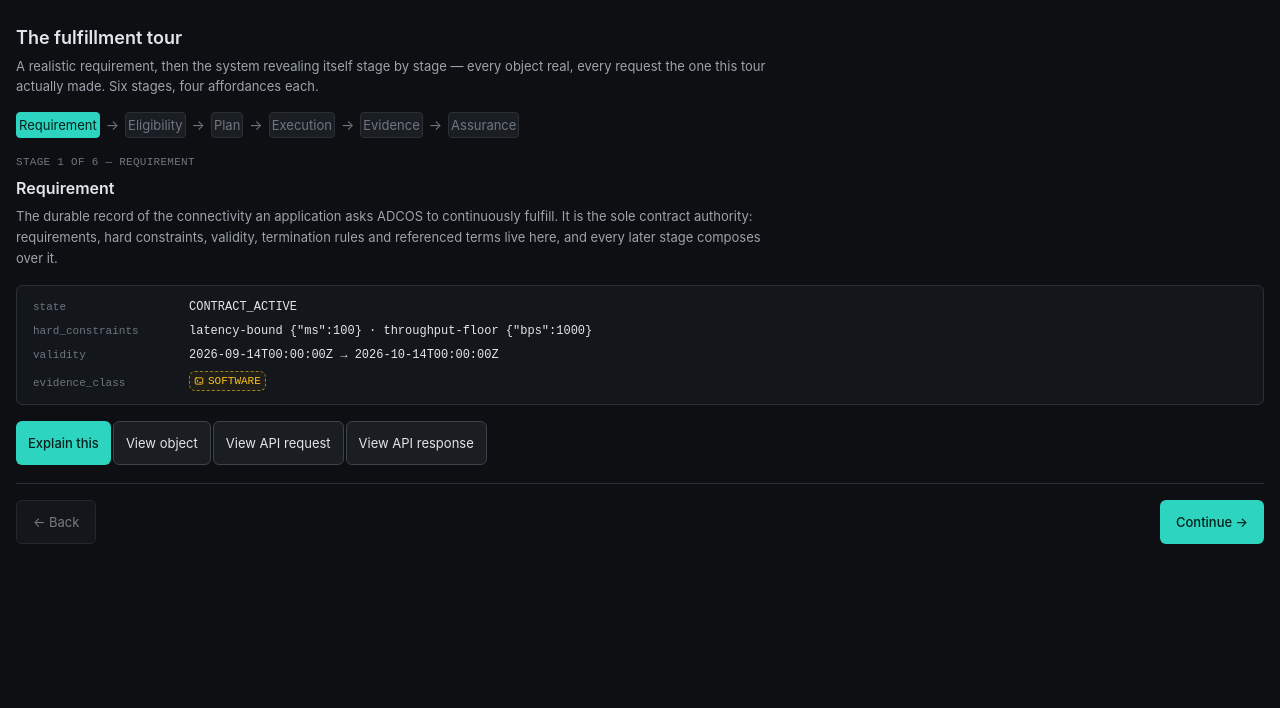
Test: The fulfillment tour — the four affordances › View object shows the stage's real DemoDocument slice
Check: the element with test id "tour-stage" is shown, box [16,154,1264,544]
Check: the heading "Requirement" is shown, box [16,178,114,198]
Click the button with test id "tour-view-object" at x=162, y=443, box [113,421,211,465]
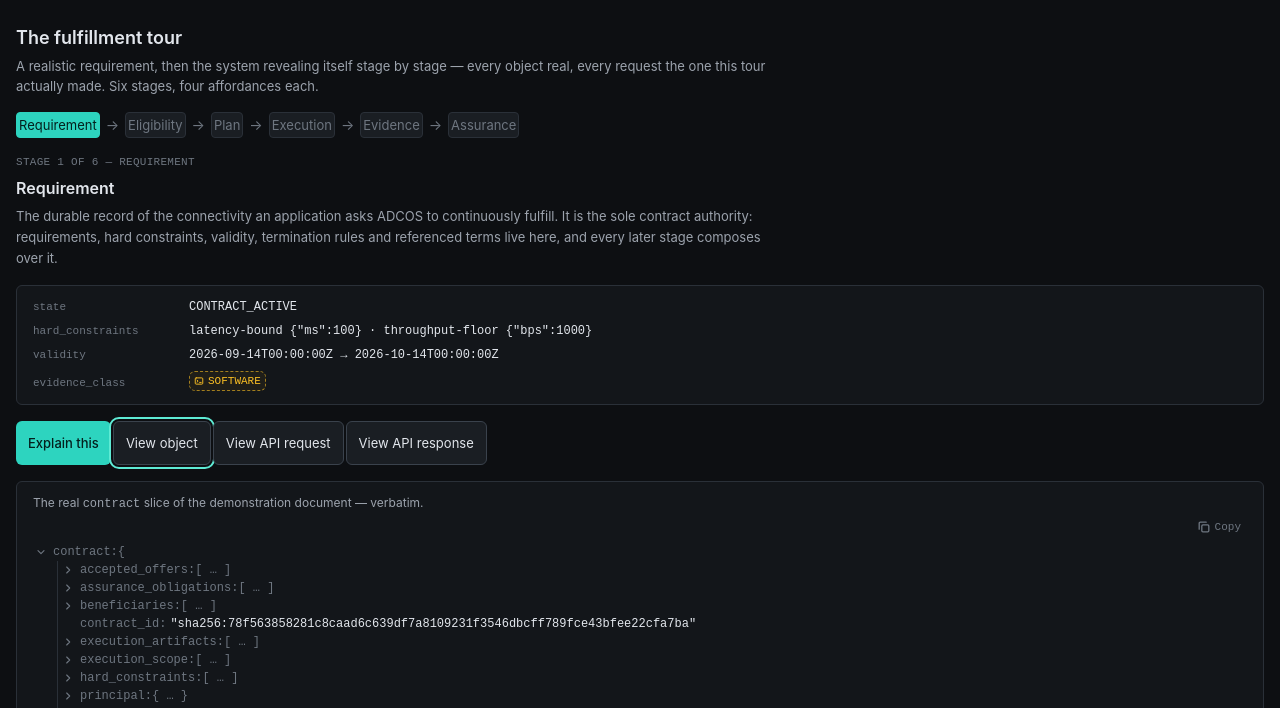
Check: the text "78f563858281c8ca" is shown, box [170,617,696,631]
Check: the text "contract:" is shown, box [53,545,118,559]
